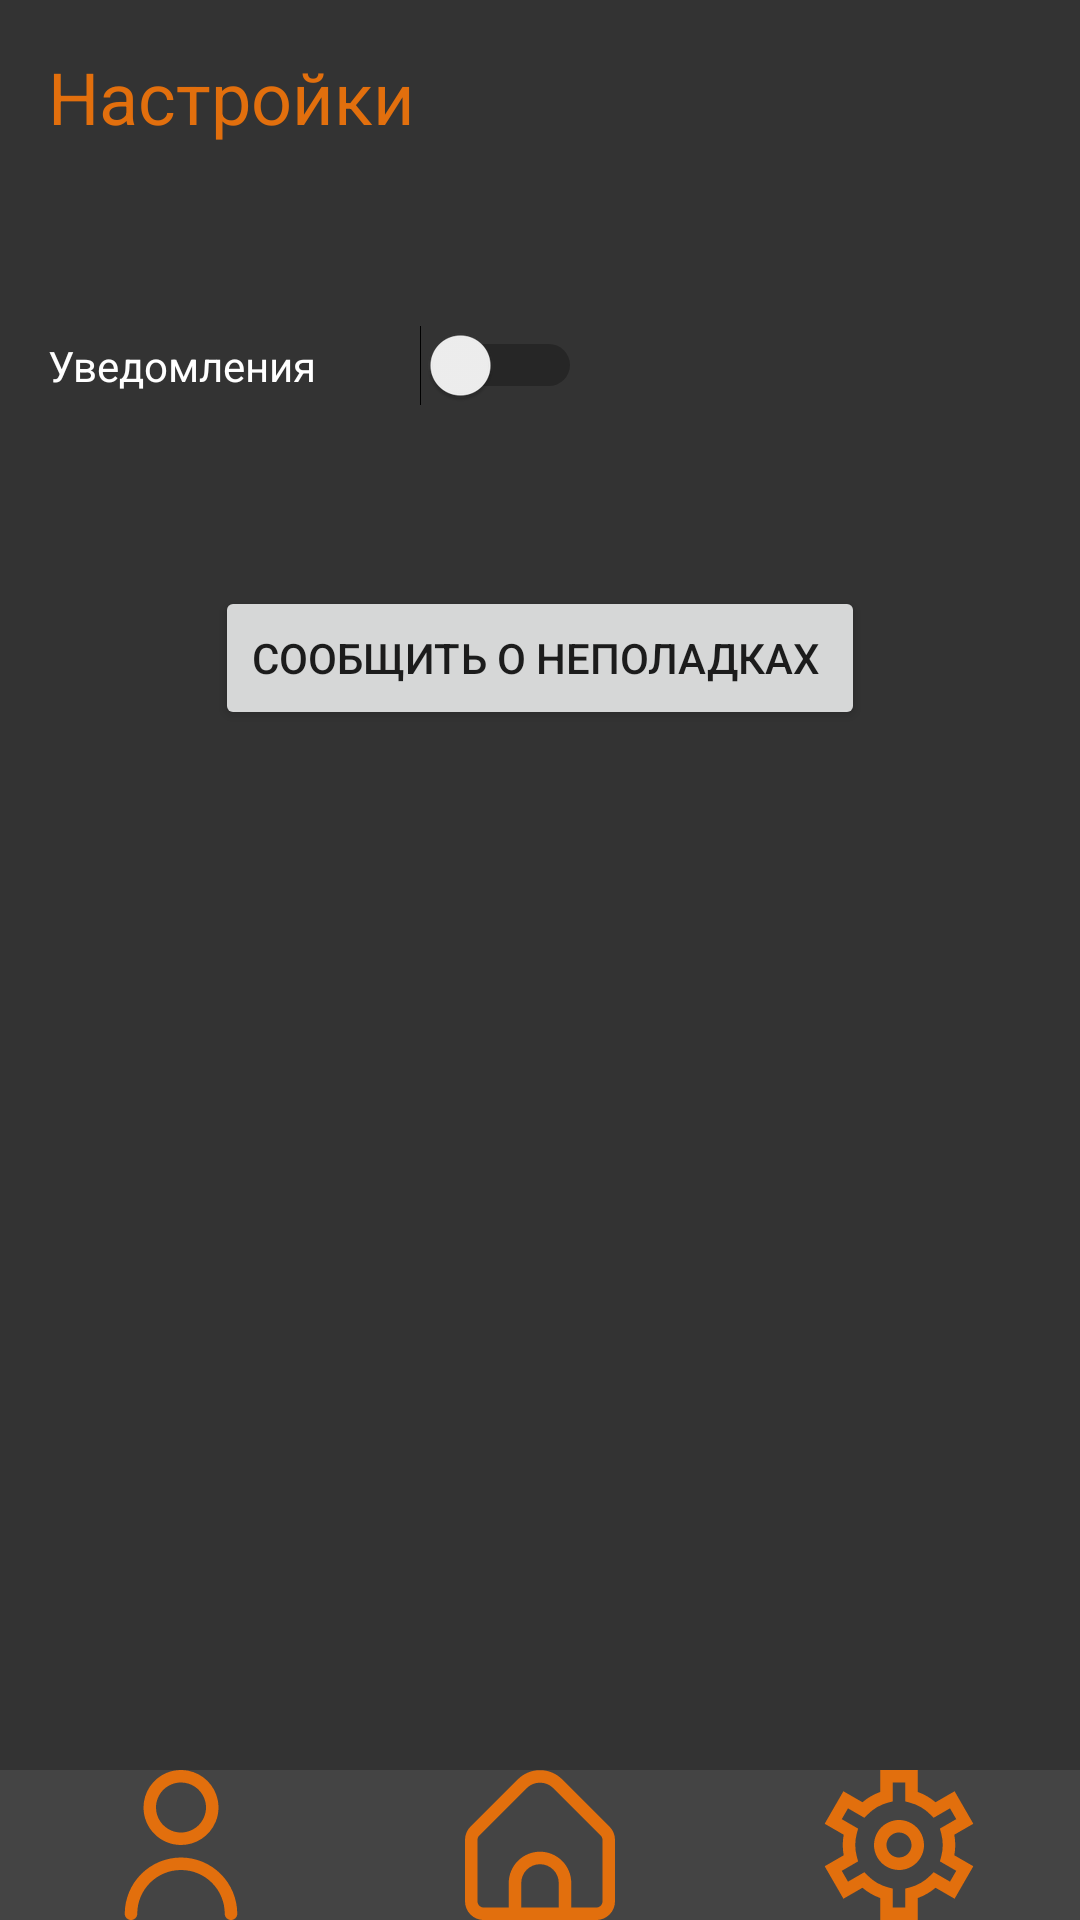

Locate icon controls on the screen. Image size 1080 × 1920, boxes as (x1, y1, x2, y2).
Главная: (362, 1770, 718, 1920)
Настройки: (825, 1770, 973, 1920)
Профиль: (124, 1770, 238, 1920)
